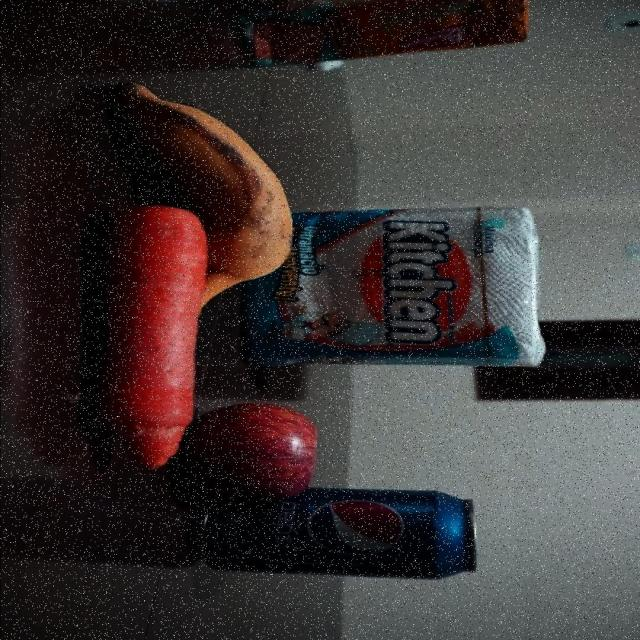Apple: (168, 399, 317, 506)
Banana: (98, 83, 296, 314)
Carrot: (94, 203, 209, 474)
Cracker: (241, 0, 535, 71)
Napkin: (246, 204, 544, 370)
SodaCan: (188, 486, 476, 582)
